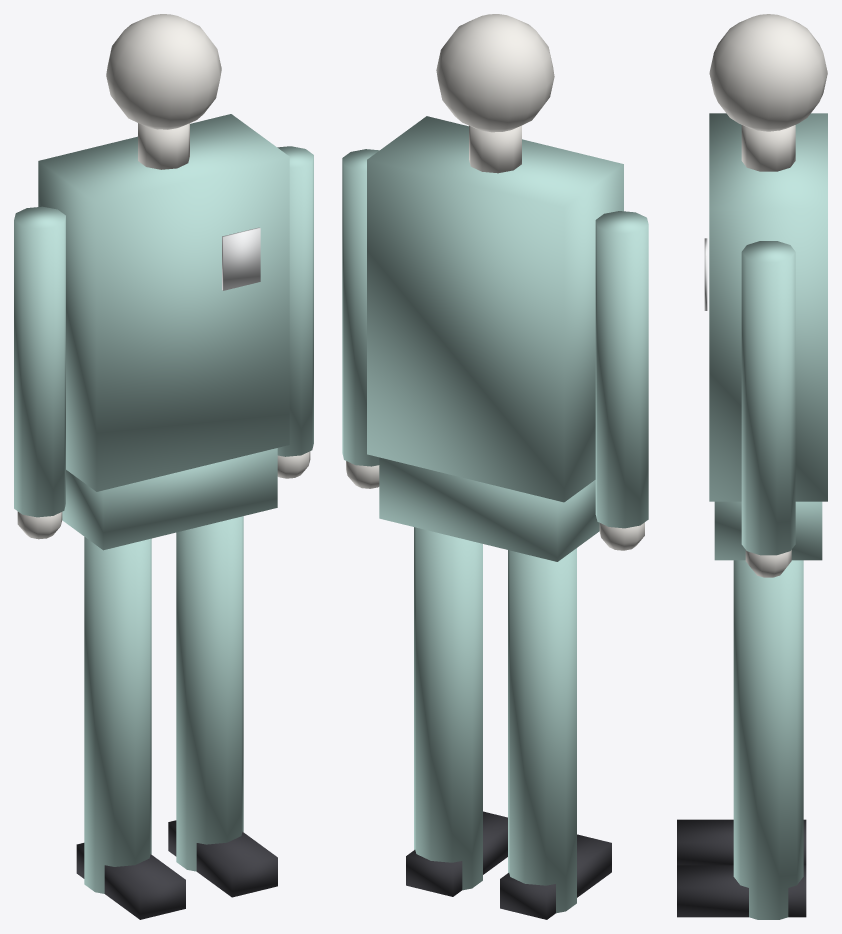
Rendered from SM_Mannequin.fbx.
3 views of the same model, side by side, from view 1: azimuth 30°, elevation 25°; view 2: azimuth 150°, elevation 25°; view 3: azimuth 270°, elevation 25° (orthographic). The views are drawn at different scales.
Visible parts, largest first — view 1: SM_Mannequin; view 2: SM_Mannequin; view 3: SM_Mannequin.
Part boxes in pixels (box(x1,y1,x2,y2)): SM_Mannequin: box(14, 14, 313, 919); SM_Mannequin: box(342, 14, 648, 919); SM_Mannequin: box(677, 14, 827, 919).
Bounding box in the file's own units: 0.628 × 1.75 × 0.2769.
